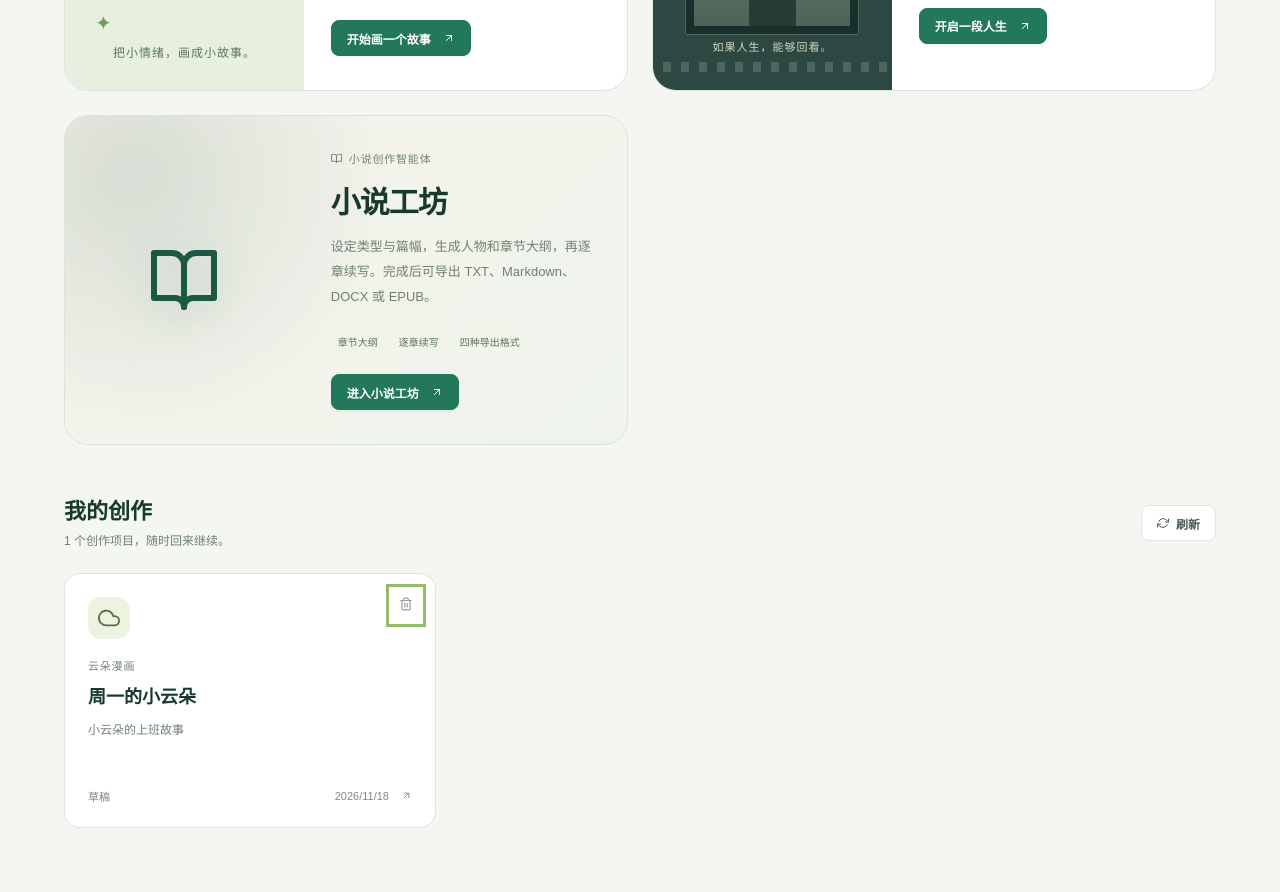
Test: 删除弹窗支持 Escape、取消和焦点恢复
(page scrolled)
Click the button named "删除周一的小云朵" at (406, 605), box x1=392 y1=590 x2=420 y2=621
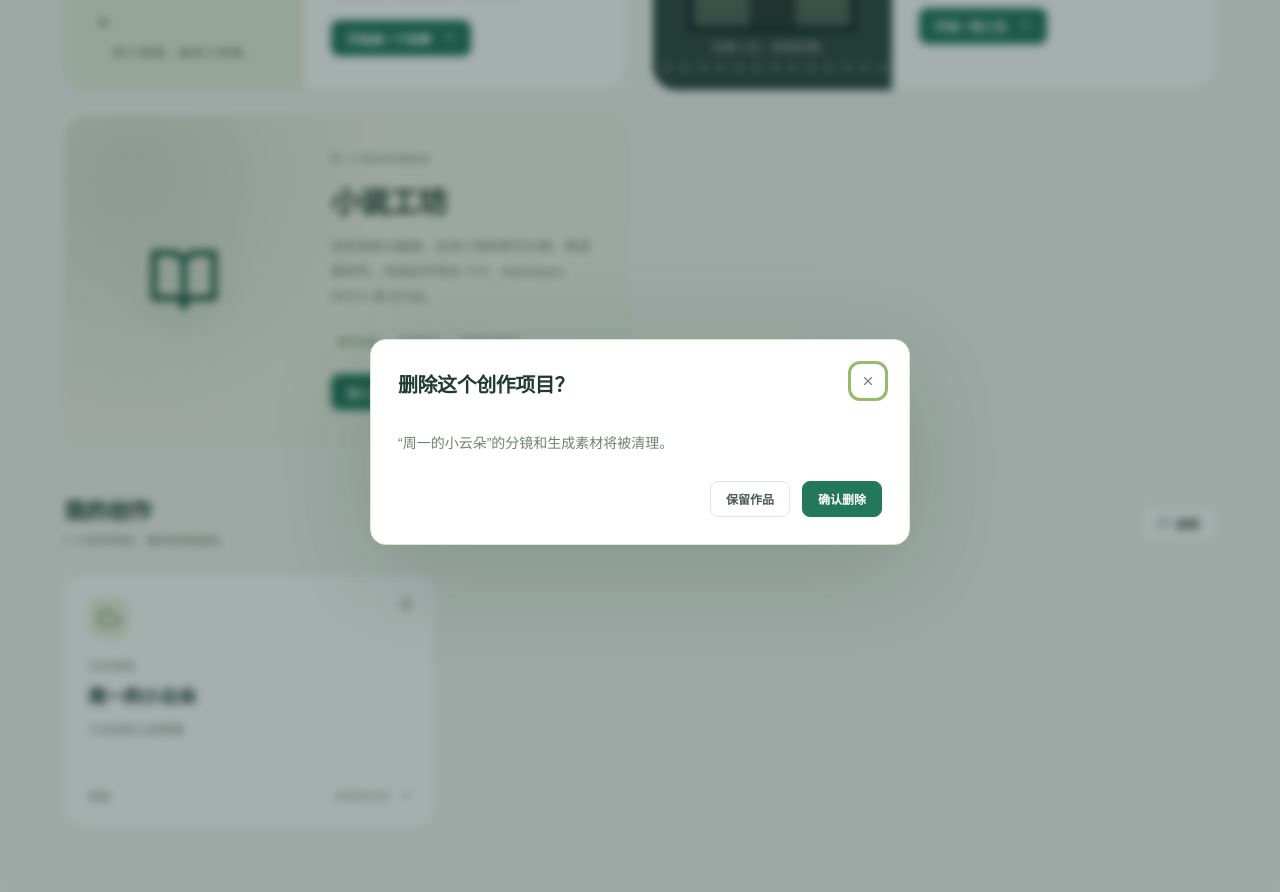
Press Tab in the button named "关闭弹窗", box x1=854 y1=367 x2=882 y2=395
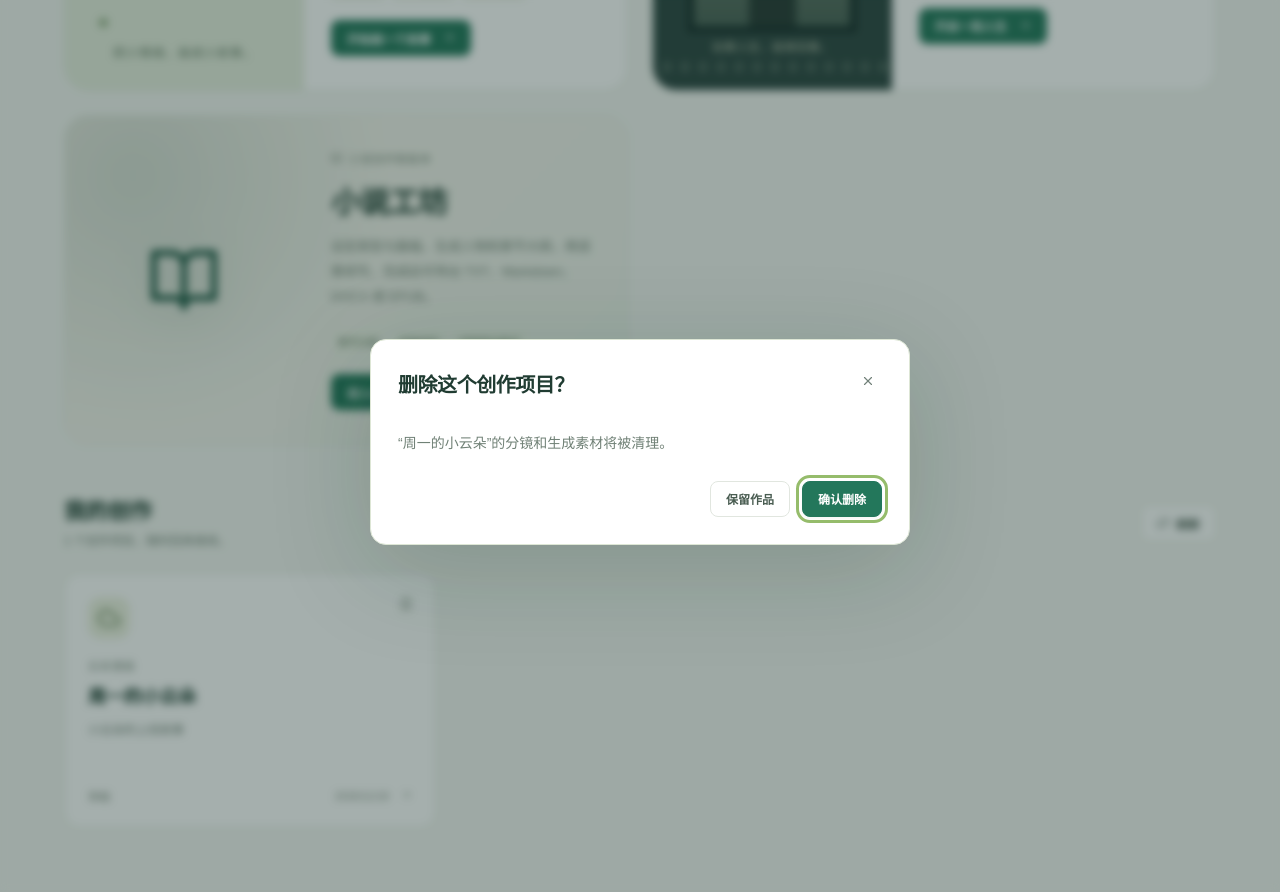
Press Tab in the button "确认删除", box x1=802 y1=481 x2=882 y2=517
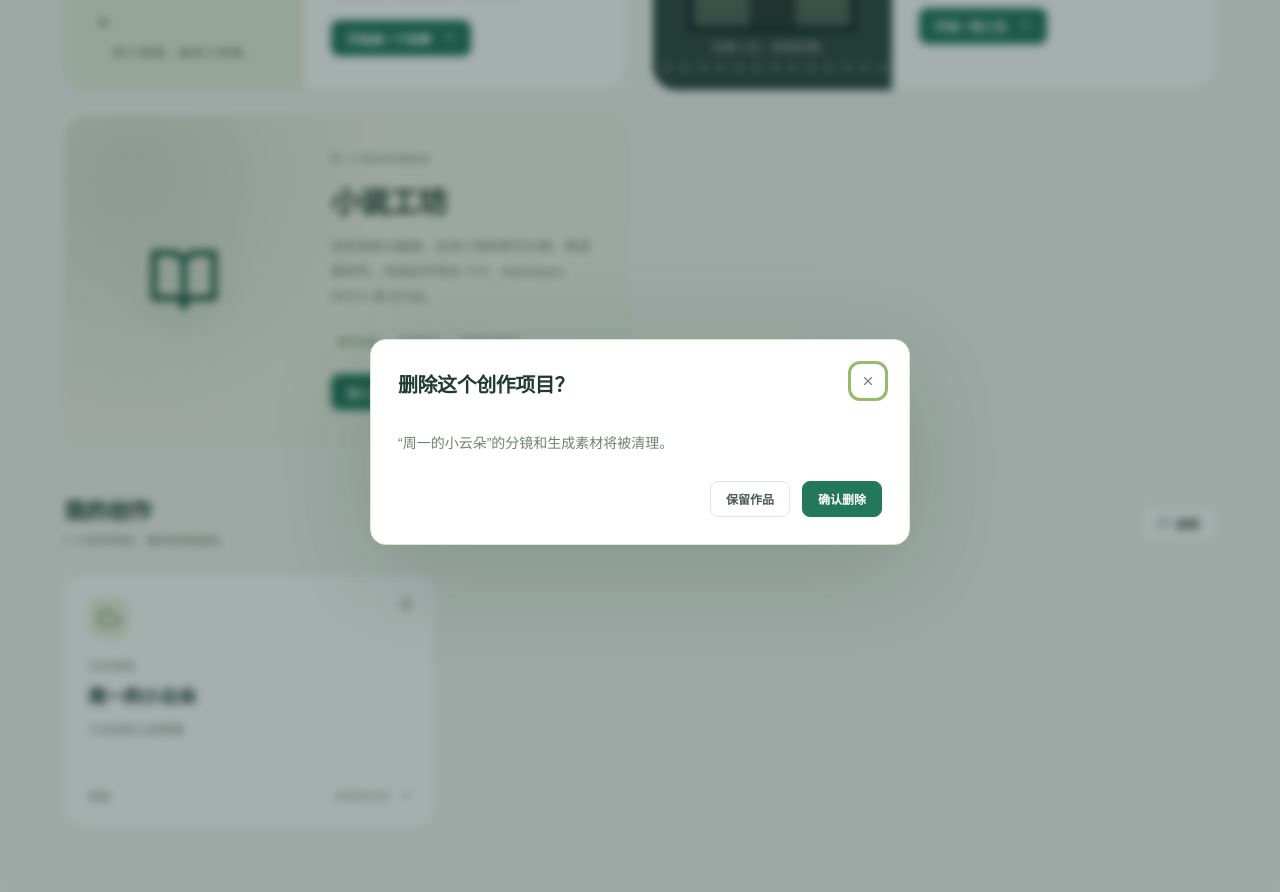
Press Escape in the button named "关闭弹窗", box x1=854 y1=367 x2=882 y2=395
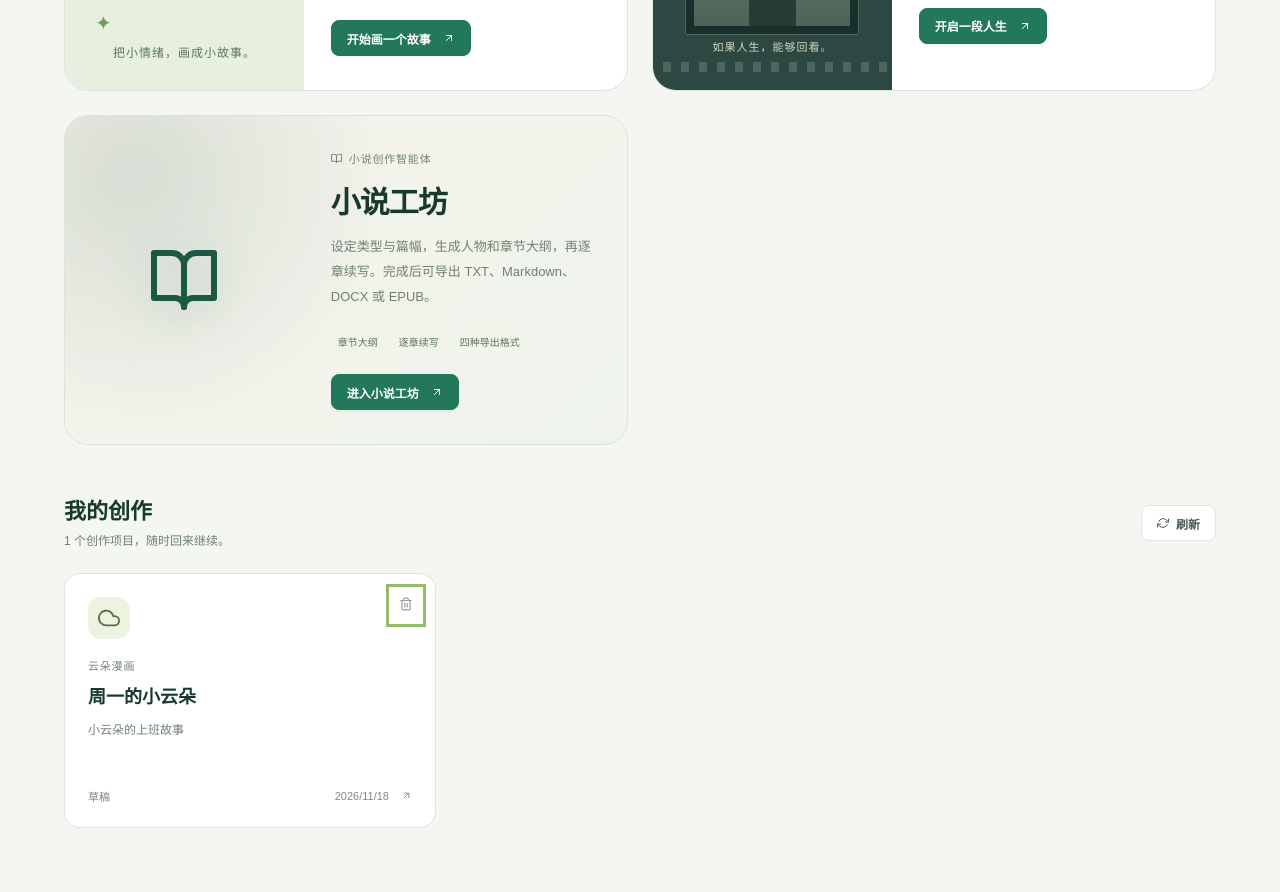
Expected: the dialog is gone
Click the button named "删除周一的小云朵" at (406, 605), box x1=392 y1=590 x2=420 y2=621
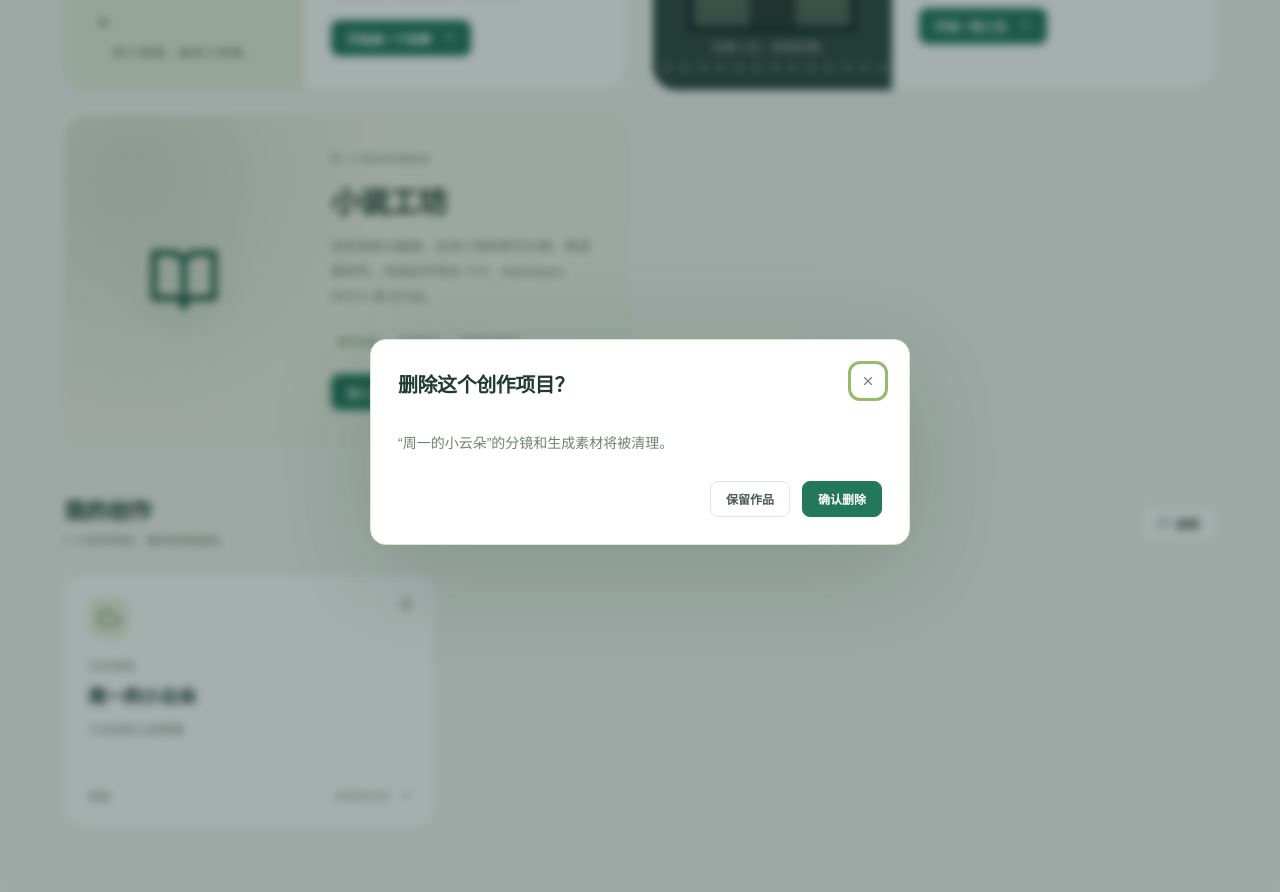
Click the button "保留作品" at (750, 499), box x1=710 y1=481 x2=790 y2=517
(page scrolled)
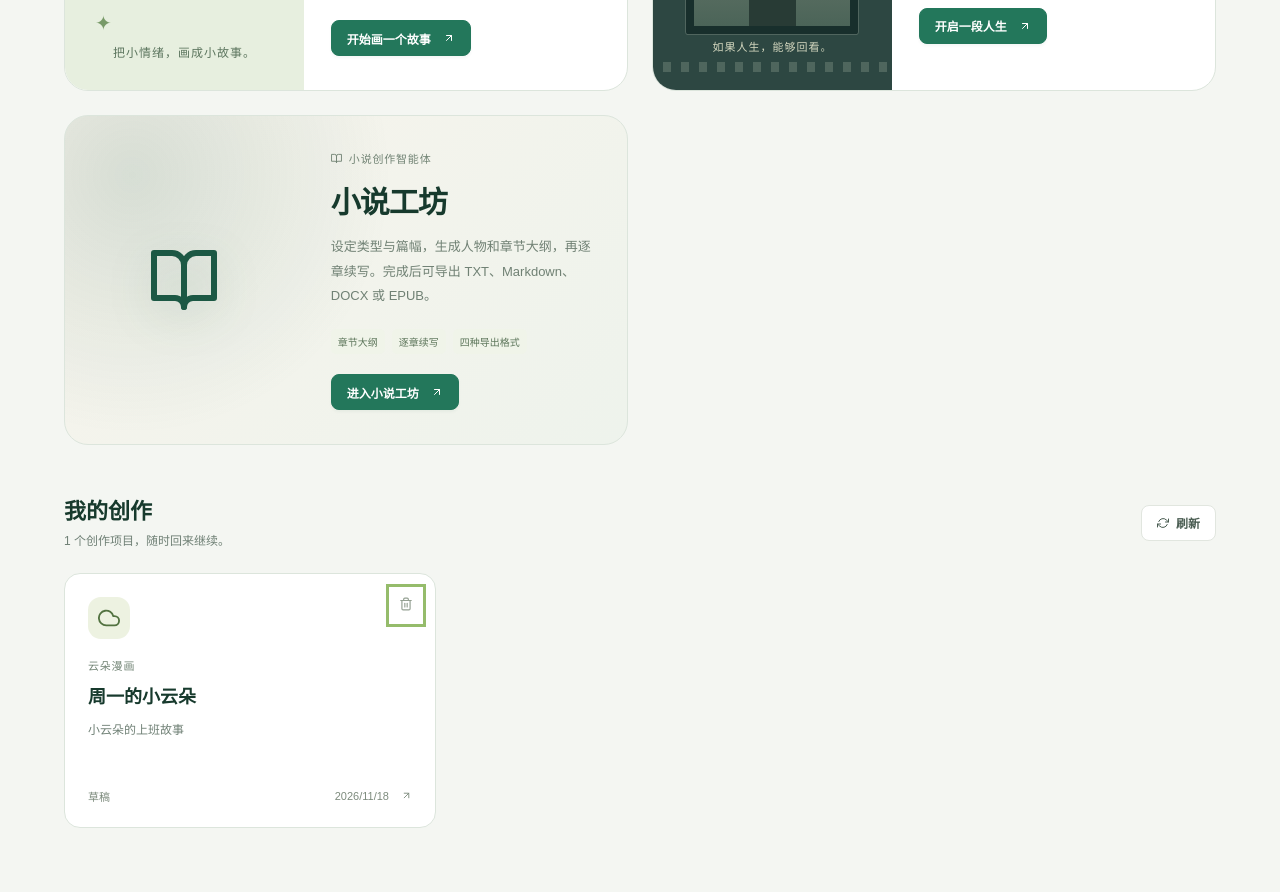
Expected: the dialog is gone
